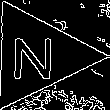N_N: (14, 30, 61, 81)
